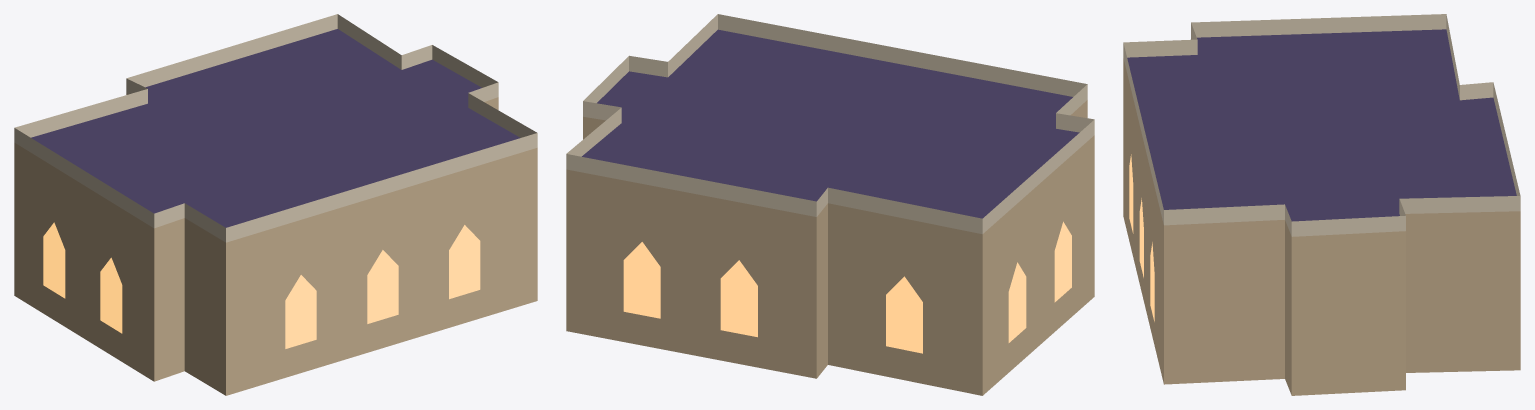
The picture shows the model from 3 angles, left to right: view 1: azimuth 30°, elevation 25°; view 2: azimuth 150°, elevation 25°; view 3: azimuth 270°, elevation 25°; orthographic projection. The views are drawn at different scales.
Visible parts, largest first — view 1: campus/b-111-0; view 2: campus/b-111-0; view 3: campus/b-111-0.
Boxes of the visible parts, x1,y1,x2,y2 form: campus/b-111-0: (14, 14, 537, 395); campus/b-111-0: (566, 14, 1094, 395); campus/b-111-0: (1123, 14, 1520, 395).
Bounding box in the file's own units: 15.94 × 6.25 × 12.89.
